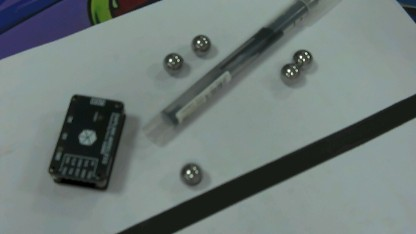ironball: (158, 48, 189, 81), (185, 29, 214, 61), (172, 159, 203, 187), (277, 60, 302, 87), (289, 43, 313, 67)
